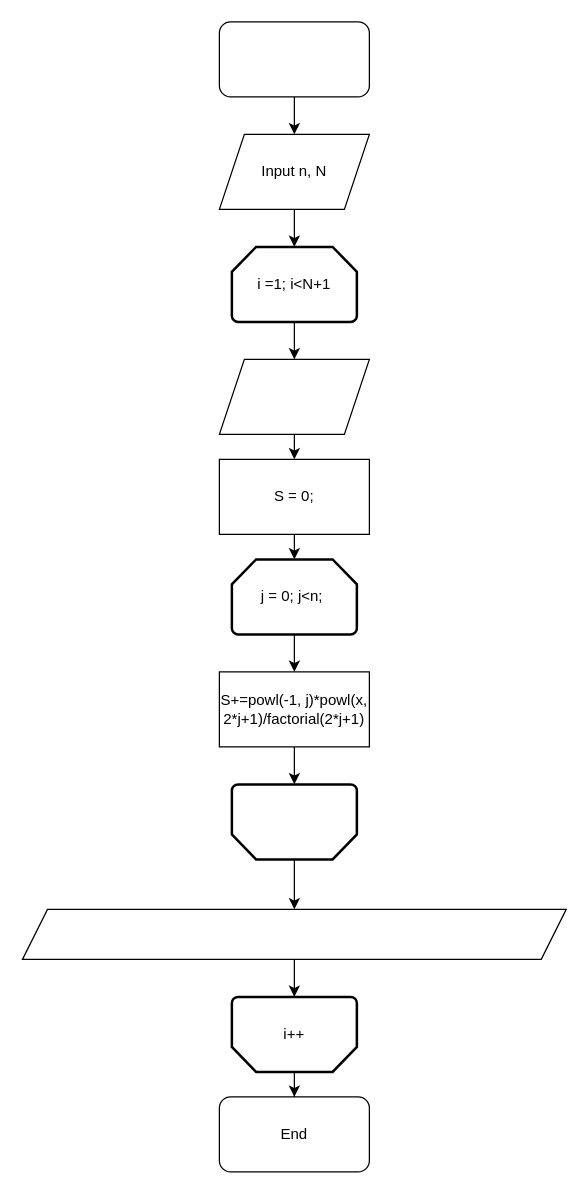
Some shapes in this 588 by 1194 pixel diagram are drawn without their labels. Each missing label, with the centre of its shape:
"По ряду Тейлора: " S " \t Стандартная функция: " sinl ( x ): point (293, 933)
Begin: point (293, 59)
input x: point (293, 396)
j++: point (294, 821)
